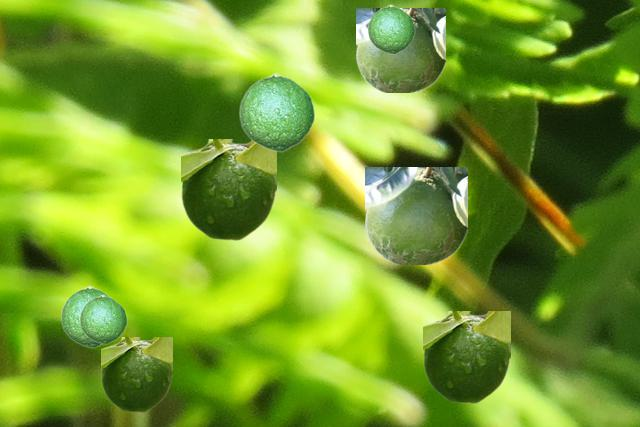dalandan: (365, 167, 466, 263), (181, 139, 275, 239), (423, 311, 509, 402), (356, 8, 444, 91), (238, 72, 314, 151), (101, 337, 171, 411), (60, 285, 110, 347), (367, 4, 414, 53), (79, 294, 126, 343)
